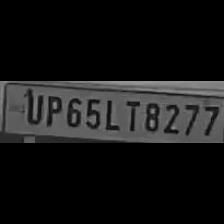2: (160, 100, 180, 136)
5: (82, 96, 100, 130)
6: (62, 94, 82, 128)
7: (198, 102, 218, 136), (180, 101, 198, 135)
8: (140, 99, 160, 133)
L: (102, 97, 120, 131)
P: (42, 92, 62, 126)
T: (122, 98, 140, 132)
U: (22, 90, 42, 126)
